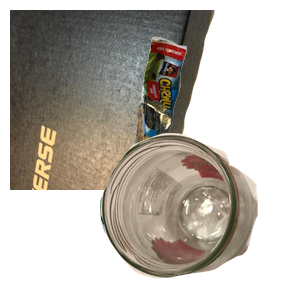cardboard: (10, 10, 217, 190)
glass: (98, 131, 300, 300)
plastic: (98, 176, 266, 300)
trash: (130, 34, 300, 203)
